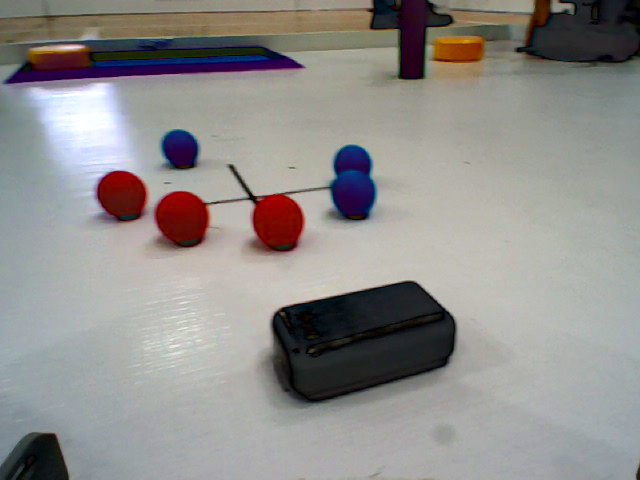black: (235, 274, 465, 394)
blue: (323, 170, 385, 230), (322, 140, 387, 187), (158, 131, 209, 169)
kuang: (1, 48, 316, 86)
red: (150, 189, 214, 243), (254, 192, 305, 253), (99, 165, 149, 222)
yellow: (427, 31, 499, 68), (26, 42, 98, 68)
zhuzi: (396, 1, 430, 84)
